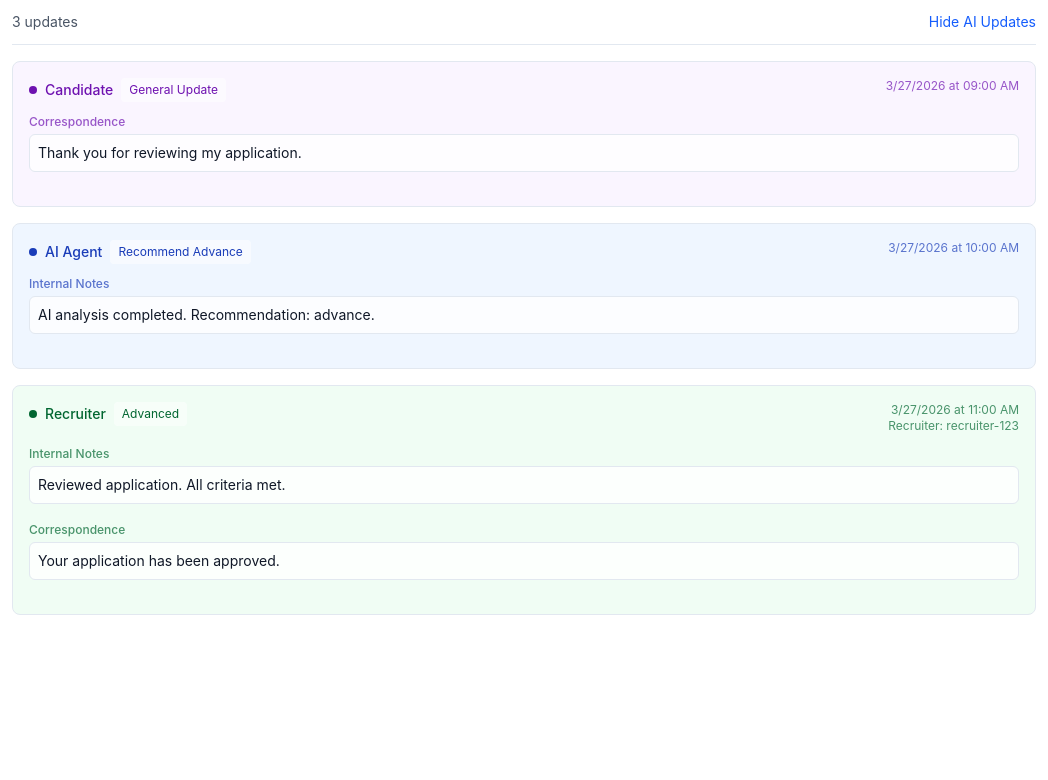
Test: UpdateTimeline › should show/hide AI updates when toggled
This screenshot has width=1048, height=780.
Expected: the text "AI Agent" is shown, [45,242,102,262]
Expected: the text "3 updates" is shown, [12,12,78,32]
Click to hide AI updates
Click the button "Hide AI Updates" at (982, 22), box [929,12,1036,32]
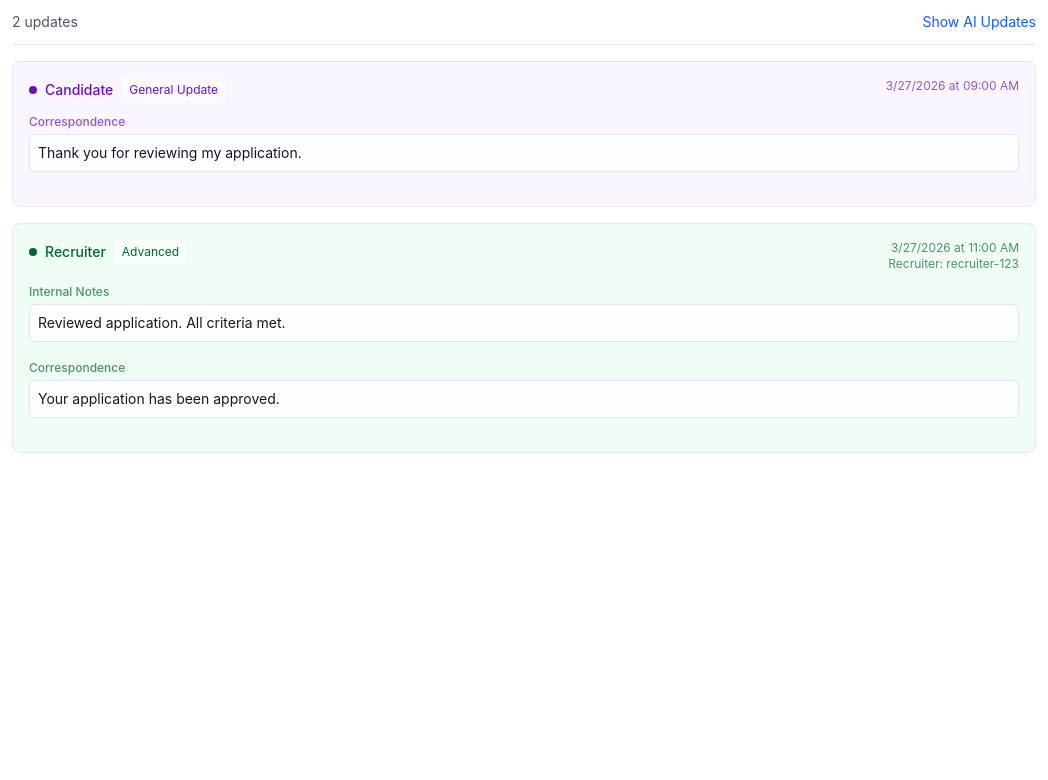
Result: the text "AI Agent" is gone
Result: the text "2 updates" is shown at [12,12,78,32]
Click to show AI updates again
Click the button "Show AI Updates" at (979, 22), box [922,12,1036,32]
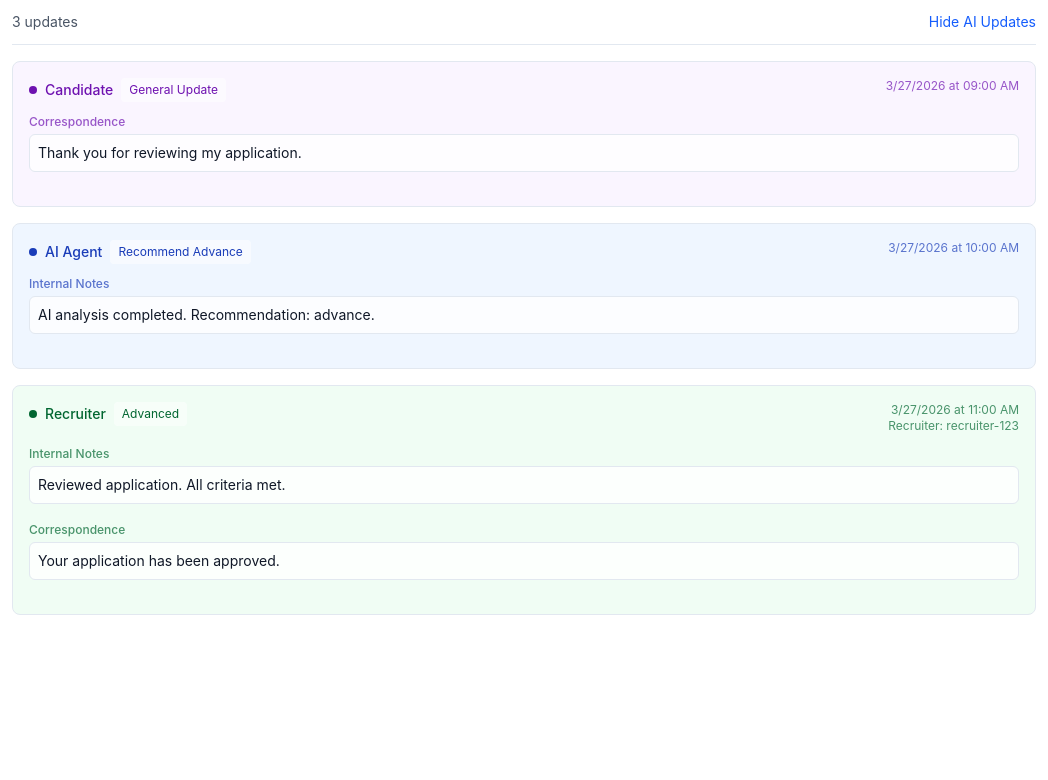
Result: the text "AI Agent" is shown at [45,242,102,262]
